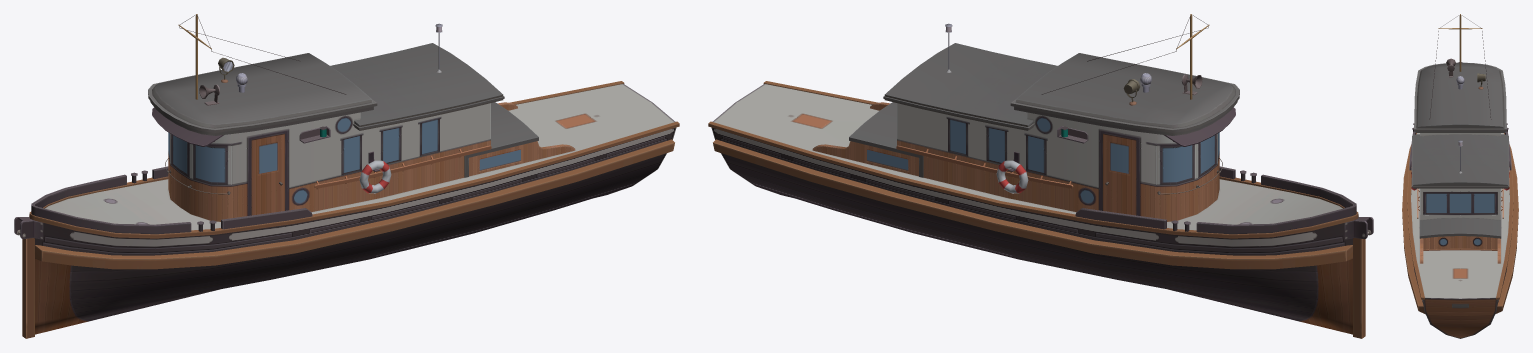
File: port_ship.glb
The picture shows the model from 3 angles, left to right: view 1: azimuth 30°, elevation 25°; view 2: azimuth 150°, elevation 25°; view 3: azimuth 270°, elevation 25°; orthographic projection. The views are drawn at different scales.
Parts seen in each view (by area): view 1: Object_2; view 2: Object_2; view 3: Object_2.
Boxes of the visible parts, x1,y1,x2,y2 form: Object_2: [14, 14, 679, 338]; Object_2: [708, 14, 1373, 338]; Object_2: [1402, 14, 1518, 338].
Size of the model in its own units: 20.64 by 8.73 by 4.87.
Materials: 1 (1 with a texture image).
